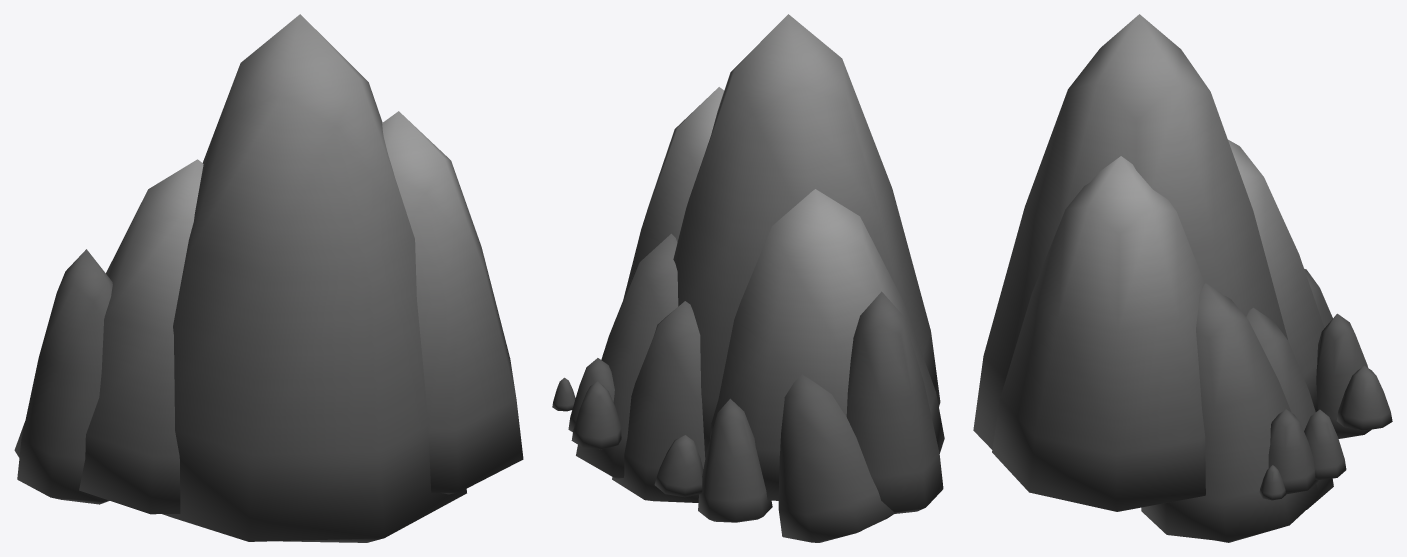
File: Variation_03.fbx
The picture shows the model from 3 angles, left to right: view 1: azimuth 30°, elevation 25°; view 2: azimuth 150°, elevation 25°; view 3: azimuth 270°, elevation 25°; orthographic projection. The views are drawn at different scales.
Visible parts, largest first — view 1: Cylinder.057, Cylinder.028, Cylinder.058, Cylinder.062; view 2: Cylinder.057, Cylinder.058, Cylinder.062, Cylinder.059, Cylinder.024, Cylinder.027, Cylinder.060, Cylinder.028, Cylinder.023, Cylinder.061, Cylinder.022, Cylinder.020; view 3: Cylinder.028, Cylinder.057, Cylinder.027, Cylinder.058, Cylinder.060, Cylinder.024, Cylinder.022, Cylinder.061, Cylinder.023, Cylinder.020, Cylinder.059.
Boxes of the visible parts, <box> form: Cylinder.057: <box>162,14,466,542</box>; Cylinder.028: <box>382,111,523,494</box>; Cylinder.058: <box>79,159,203,514</box>; Cylinder.062: <box>17,249,112,504</box>; Cylinder.057: <box>673,14,940,457</box>; Cylinder.058: <box>710,189,944,500</box>; Cylinder.062: <box>846,291,943,513</box>; Cylinder.059: <box>778,374,896,542</box>; Cylinder.024: <box>612,301,705,502</box>; Cylinder.027: <box>576,233,678,478</box>; Cylinder.060: <box>698,398,772,522</box>; Cylinder.028: <box>623,87,724,299</box>; Cylinder.023: <box>571,381,621,449</box>; Cylinder.061: <box>654,435,703,497</box>; Cylinder.022: <box>568,358,614,432</box>; Cylinder.020: <box>552,377,575,411</box>; Cylinder.028: <box>992,156,1205,511</box>; Cylinder.057: <box>973,14,1287,449</box>; Cylinder.027: <box>1141,283,1319,542</box>; Cylinder.058: <box>1228,139,1324,411</box>; Cylinder.060: <box>1316,313,1371,438</box>; Cylinder.024: <box>1246,307,1333,509</box>; Cylinder.022: <box>1268,409,1318,494</box>; Cylinder.061: <box>1336,365,1392,430</box>; Cylinder.023: <box>1304,409,1346,480</box>; Cylinder.020: <box>1259,465,1286,500</box>; Cylinder.059: <box>1304,269,1332,327</box>.
Size of the model in its own units: 1033 by 1172 by 965.
